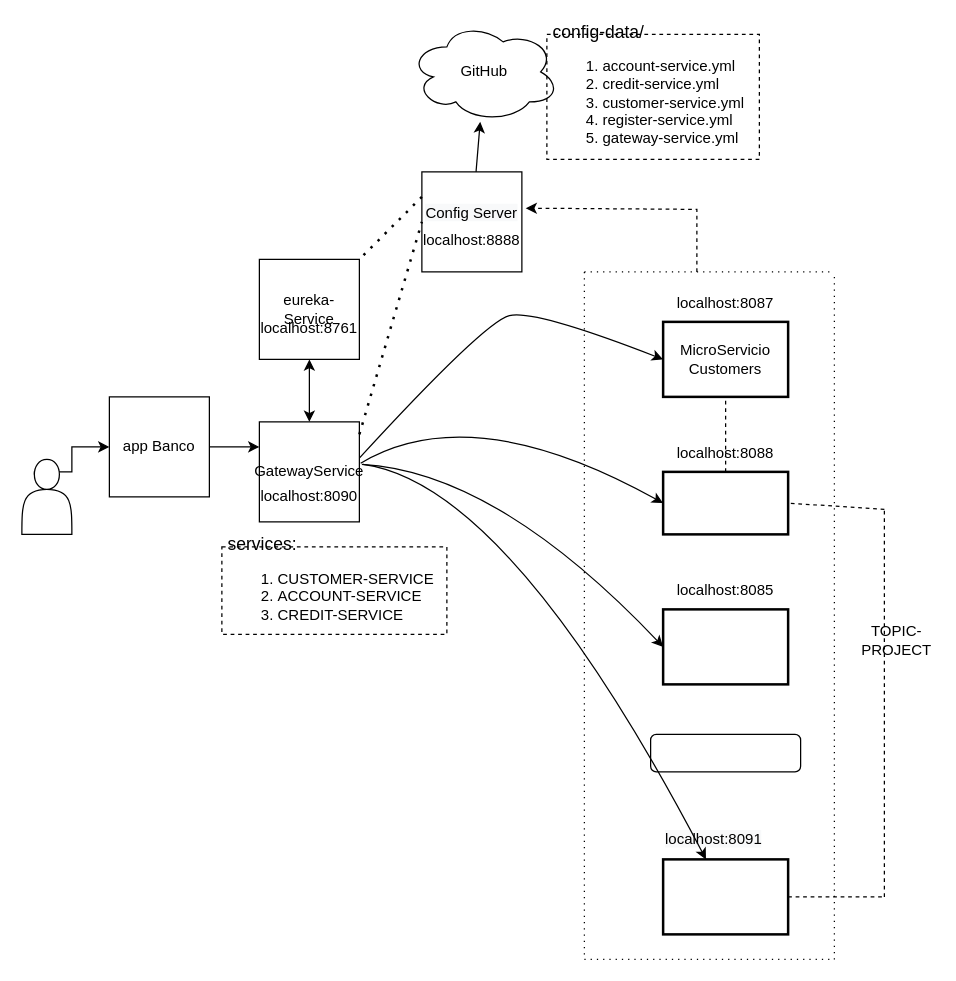
Some shapes in this 956 by 981 pixel diagram are drawn without their labels. Each missing label, with the centre of its shape:
"KAFKA" belongs at point (725, 752).
"MicroServicio Accounts" belongs at point (725, 502).
"MicroServicio Credit" belongs at point (725, 646).
"MicroServicio Monedero" belongs at point (725, 896).
